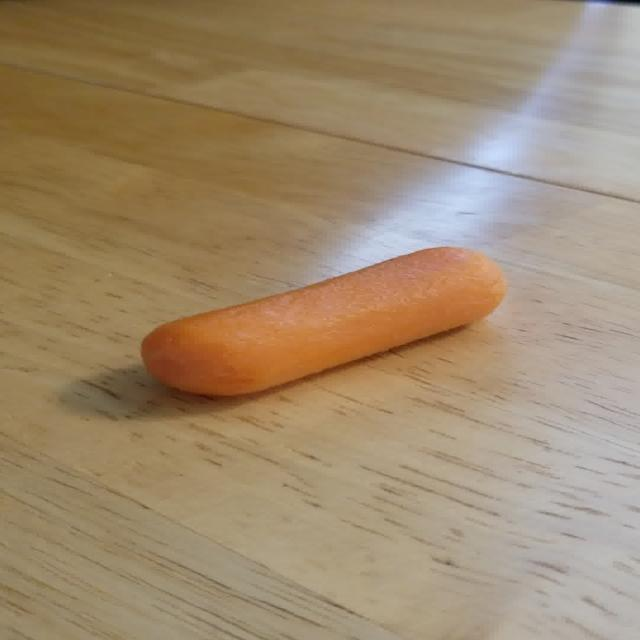carrot: (141, 248, 507, 395)
